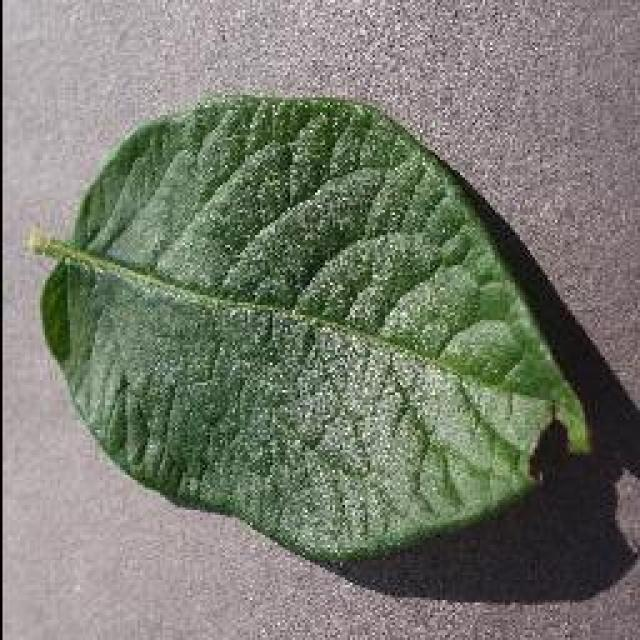Potato___healthy: (19, 91, 600, 573)
